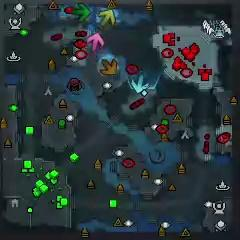x1: (86, 33, 105, 51)
x2: (99, 9, 116, 27)
x3: (132, 73, 149, 95)
x4: (73, 4, 91, 20)
x5: (100, 58, 118, 76)
